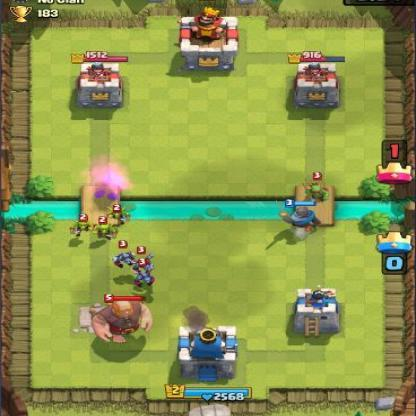ally_knight: (274, 197, 326, 234)
enemy_giant: (89, 292, 154, 346)
enemy_goblin: (67, 213, 96, 240), (102, 202, 132, 228), (92, 217, 118, 242)
enemy_minion: (111, 238, 138, 271), (130, 246, 156, 275), (132, 258, 156, 288)
enemy_spear_goblin: (300, 169, 334, 205)
